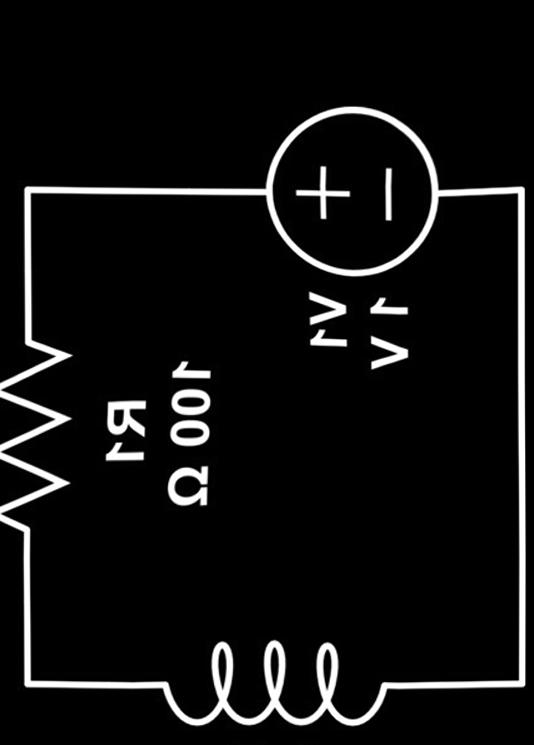Battery: (240, 91, 466, 290)
